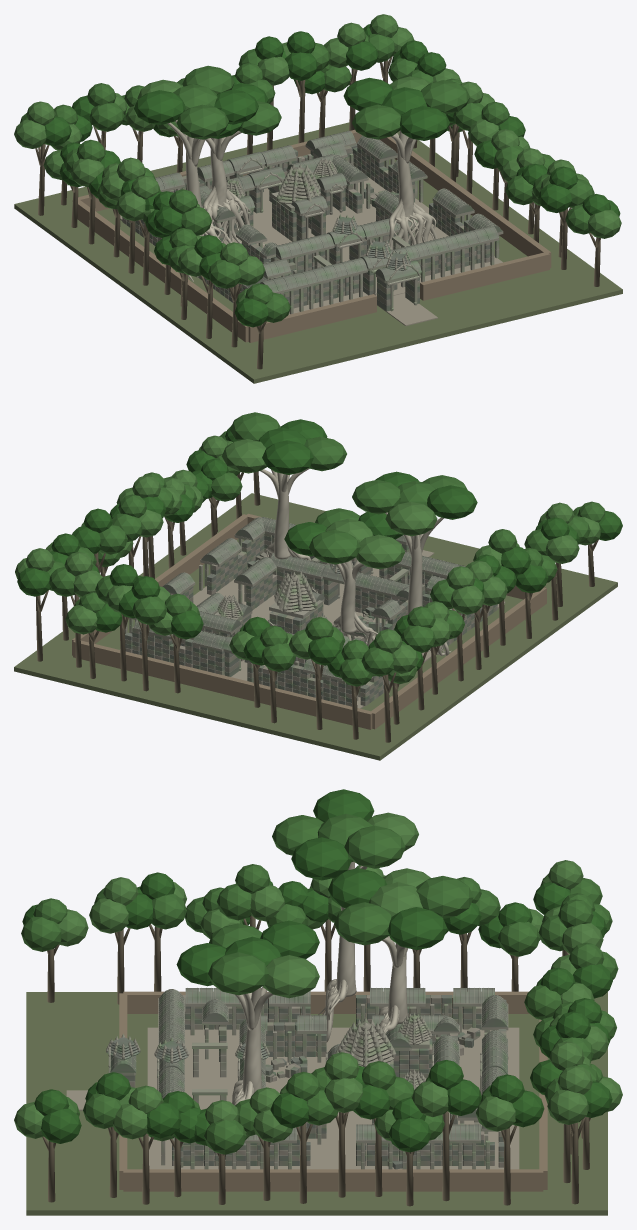
File: ta-prohm-ultra.glb
3 views of the same model, one above another, from view 1: azimuth 30°, elevation 25°; view 2: azimuth 150°, elevation 25°; view 3: azimuth 270°, elevation 25° (orthographic). The views are drawn at different scales.
Parts seen in each view (by area): view 1: Forest floor, Forest canopy 1, Forest canopy 0, Forest canopy 2, Carved sandstone, Corbelled stone roofs, Laterite enclosure, Forest trunks, Pale living roots, Courtyard paving, Weathered sandstone 1, Weathered sandstone 2 (+2 smaller); view 2: Forest floor, Forest canopy 1, Forest canopy 0, Forest canopy 2, Laterite enclosure, Forest trunks, Corbelled stone roofs, Carved sandstone, Pale living roots, Weathered sandstone 1, Weathered sandstone 0, Weathered sandstone 3 (+2 smaller); view 3: Forest floor, Forest canopy 0, Forest canopy 1, Forest canopy 2, Carved sandstone, Laterite enclosure, Forest trunks, Corbelled stone roofs, Courtyard paving, Pale living roots, Weathered sandstone 1, Weathered sandstone 2 (+2 smaller).
Boxes of the visible parts, box(x1,y1,x2,y2) form: Forest floor: box(14, 122, 622, 383); Forest canopy 1: box(20, 34, 594, 322); Forest canopy 0: box(44, 24, 620, 327); Forest canopy 2: box(14, 14, 621, 304); Carved sandstone: box(156, 130, 503, 314); Corbelled stone roofs: box(155, 131, 502, 292); Laterite enclosure: box(72, 129, 551, 342); Forest trunks: box(35, 56, 600, 369); Pale living roots: box(167, 120, 437, 281); Courtyard paving: box(120, 176, 502, 325); Weathered sandstone 1: box(122, 146, 490, 308); Weathered sandstone 2: box(122, 143, 490, 305); Forest floor: box(14, 493, 617, 760); Forest canopy 1: box(47, 412, 605, 686); Forest canopy 0: box(17, 419, 622, 677); Forest canopy 2: box(15, 435, 600, 683); Laterite enclosure: box(72, 513, 546, 729); Forest trunks: box(36, 471, 598, 742); Corbelled stone roofs: box(133, 517, 465, 678); Carved sandstone: box(124, 517, 463, 700); Pale living roots: box(260, 468, 451, 655); Weathered sandstone 1: box(125, 534, 497, 706); Weathered sandstone 0: box(125, 536, 488, 702); Weathered sandstone 3: box(125, 533, 493, 702); Forest floor: box(26, 992, 607, 1215); Forest canopy 0: box(22, 789, 612, 1152); Forest canopy 1: box(21, 813, 618, 1154); Forest canopy 2: box(14, 812, 622, 1142); Carved sandstone: box(106, 988, 508, 1169); Laterite enclosure: box(119, 991, 547, 1191); Forest trunks: box(42, 915, 590, 1206); Corbelled stone roofs: box(110, 988, 507, 1139); Courtyard paving: box(66, 1027, 519, 1169); Pale living roots: box(232, 861, 407, 1105); Weathered sandstone 1: box(172, 995, 506, 1165); Weathered sandstone 2: box(107, 995, 506, 1169).
Bounding box in the file's own units: 34.89 × 15.36 × 37.69.
